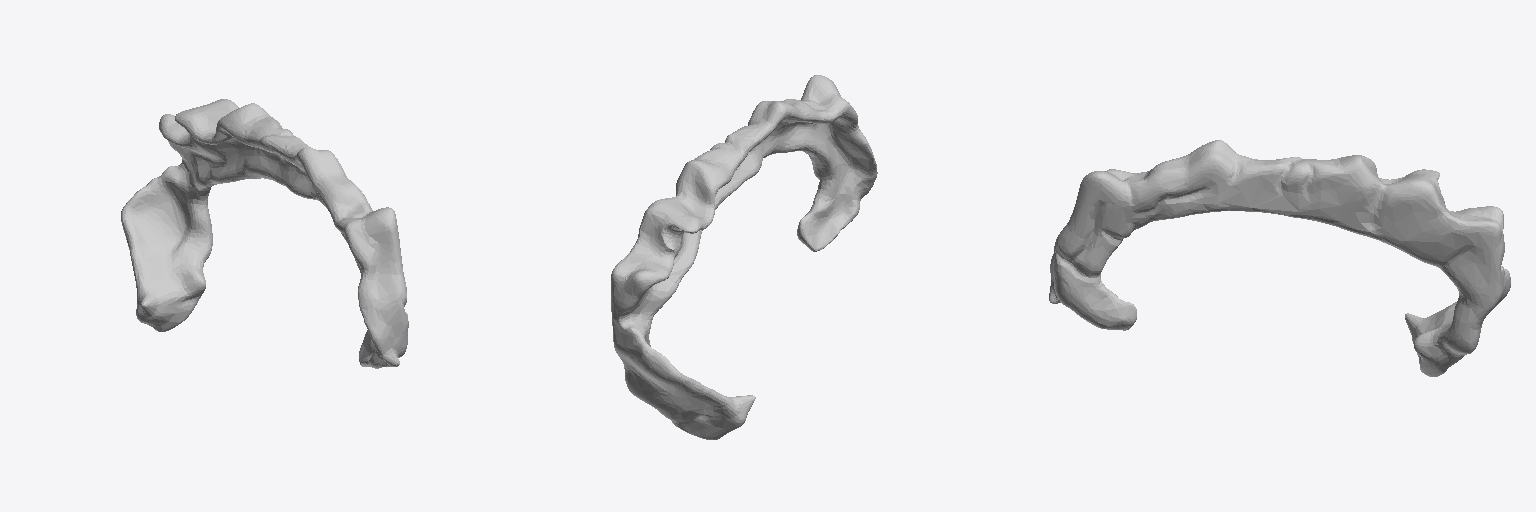
File: Cingulate_gyrus_right.obj
3 renders of one model, left to right at view 1: azimuth 30°, elevation 25°; view 2: azimuth 150°, elevation 25°; view 3: azimuth 270°, elevation 25°, orthographic.
Visible parts, largest first — view 1: obj0; view 2: obj0; view 3: obj0.
Boxes of the visible parts, x1,y1,x2,y2 form: obj0: [121, 99, 408, 368]; obj0: [611, 75, 877, 439]; obj0: [1049, 140, 1510, 376].
Size of the model in its own units: 13.57 by 31.89 by 53.22.